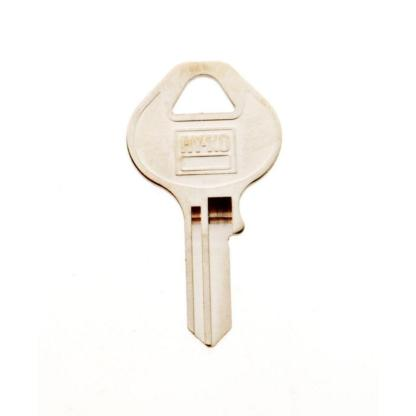key: (123, 42, 296, 366)
